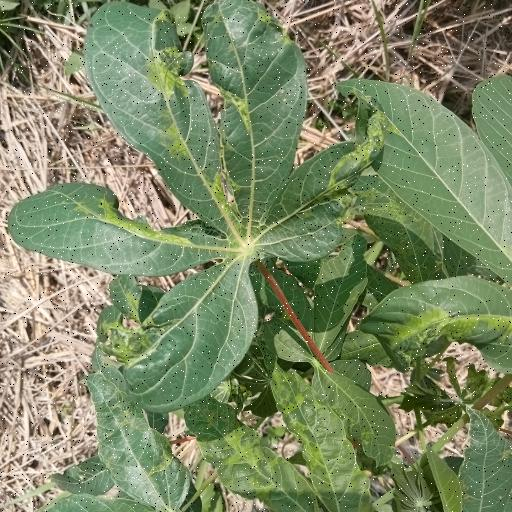Cassava_Mosaic: (13, 0, 378, 405)
